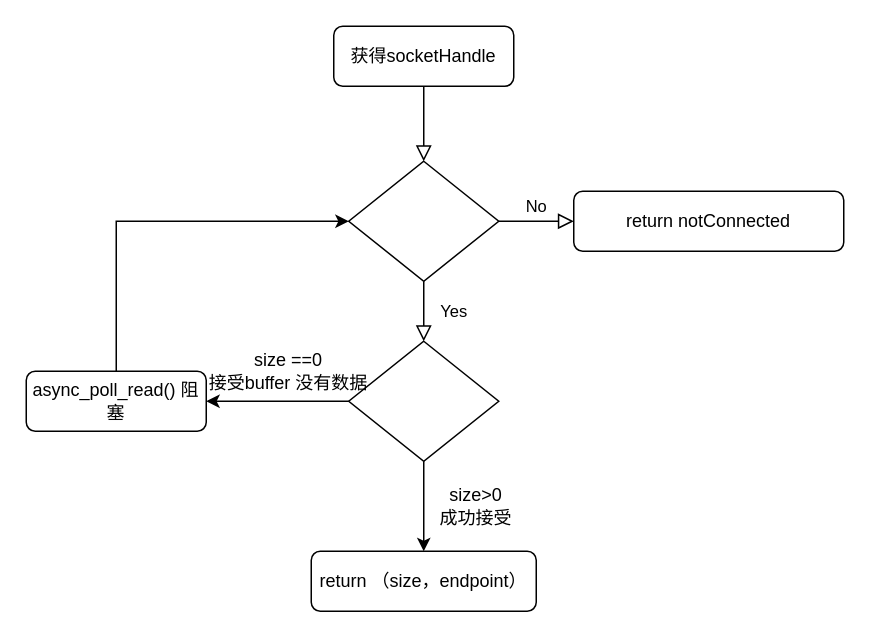
This 870x638 diagram has some shape labels left out. The centre of each missing label's shape, as x and y in pixels:
"接收数据" goes at (x=423, y=400).
"能读 nonblock" goes at (x=423, y=220).
